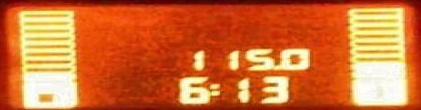-: (270, 63, 281, 70)
0: (278, 47, 309, 70)
1: (233, 76, 248, 103), (190, 49, 205, 70), (225, 49, 238, 70)
3: (256, 75, 288, 104)
5: (241, 47, 273, 70)
6: (175, 76, 208, 104)
X: (206, 83, 220, 96)
